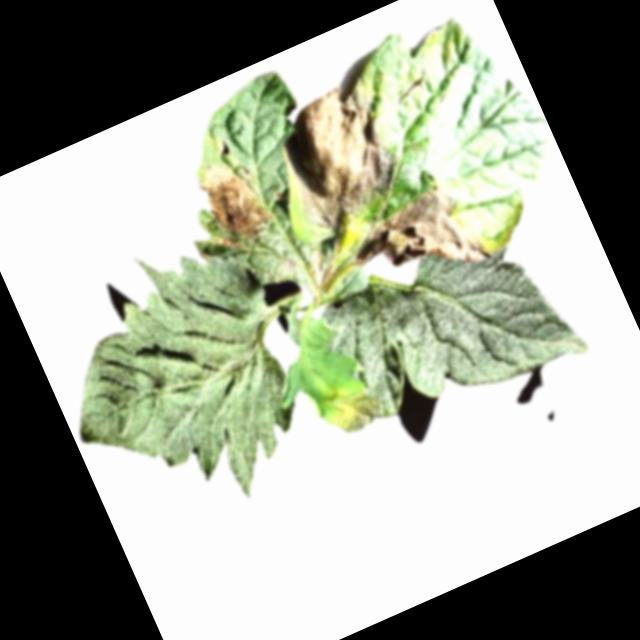Late_blight: (257, 75, 415, 241), (334, 180, 481, 312), (190, 148, 275, 251), (321, 376, 389, 441), (302, 249, 336, 291)
